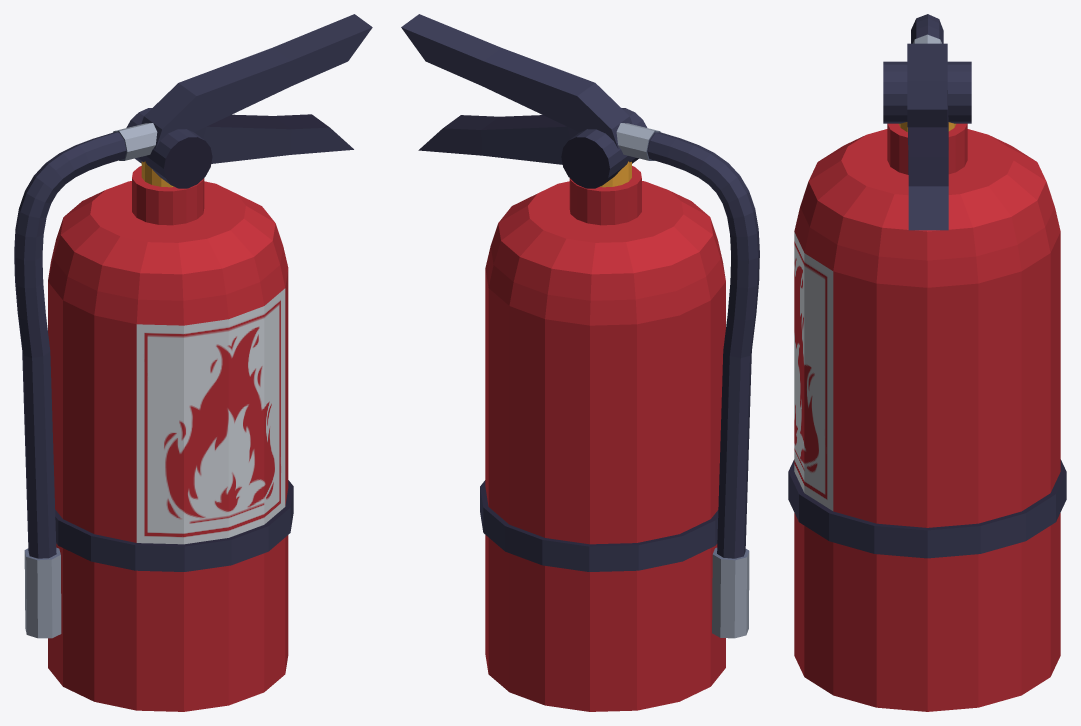
File: f_fireextinguisher.fbx
3 views of the same model, side by side, from view 1: azimuth 30°, elevation 25°; view 2: azimuth 150°, elevation 25°; view 3: azimuth 270°, elevation 25° (orthographic). The views are drawn at different scales.
Visible parts, largest first — view 1: f_fireextinguisher; view 2: f_fireextinguisher; view 3: f_fireextinguisher.
Boxes of the visible parts, box(x1,y1,x2,y2) form: f_fireextinguisher: box(14, 14, 372, 711); f_fireextinguisher: box(401, 14, 759, 711); f_fireextinguisher: box(788, 14, 1066, 711).
Bounding box in the file's own units: 0.7327 × 0.4619 × 1.19.
